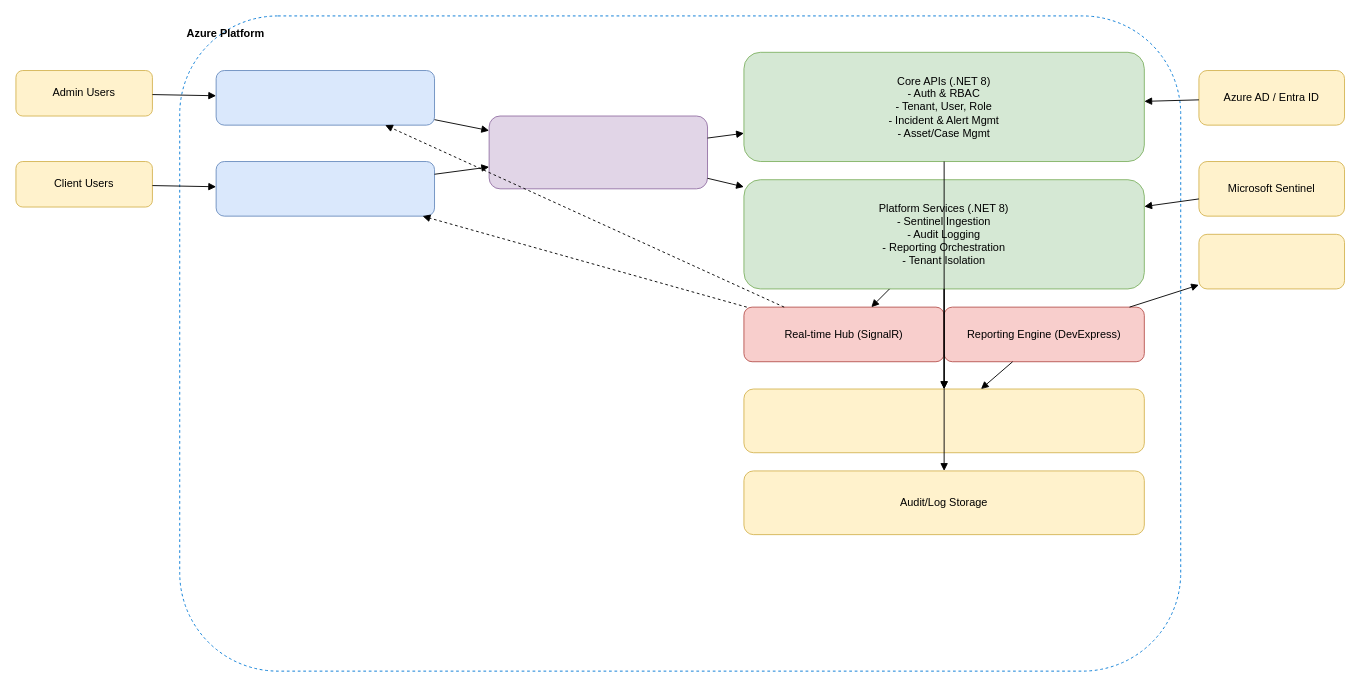
The diagram is 1360 pixels wide and 687 high, and some of its shapes have lost their labels. The box of each missing label's shape, as (x1, y1, x2, y2) in pixels:
Admin Portal (React + DevExpress): (215, 70, 435, 125)
API Gateway / BFF (.NET 8): (488, 115, 708, 189)
Client Portal (React + DevExpress): (215, 161, 435, 216)
PowerViz.AI: (1198, 233, 1345, 289)
SQL Server (Multi-tenant DB): (743, 388, 1144, 453)
